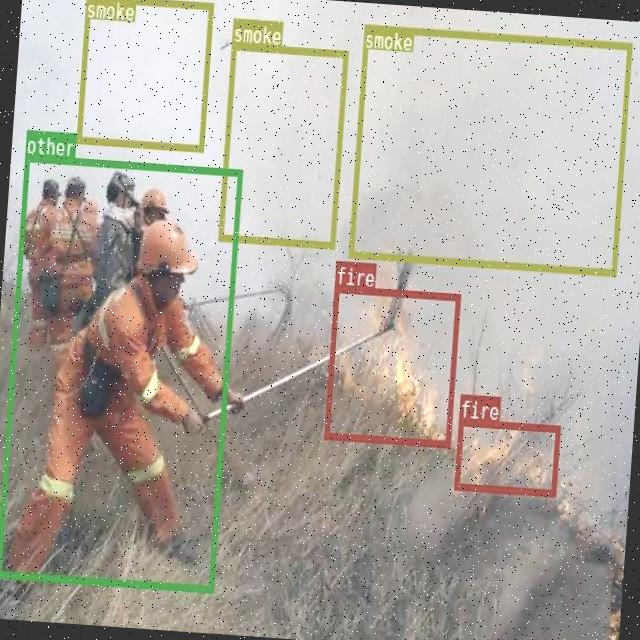fire: (324, 285, 459, 446), (453, 418, 560, 496)
smoke: (348, 23, 632, 276), (217, 41, 347, 248), (75, 0, 213, 151)
